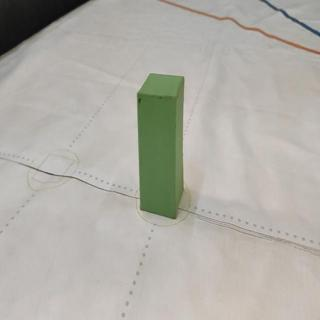greenbox: (137, 69, 187, 220)
